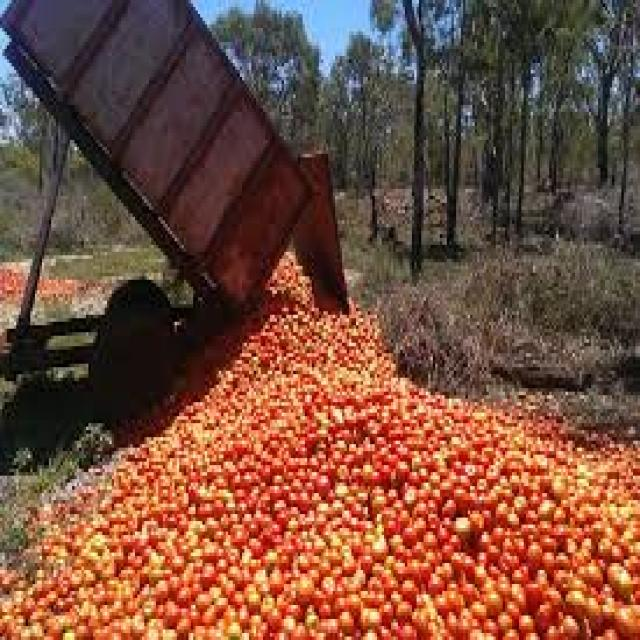organic waste: (402, 388, 638, 637), (189, 504, 505, 636), (0, 521, 328, 637), (252, 395, 386, 584), (35, 462, 214, 584), (184, 420, 268, 577), (110, 412, 182, 574), (377, 370, 421, 602), (170, 346, 242, 476), (300, 343, 396, 423), (256, 287, 323, 381), (202, 315, 270, 395), (344, 290, 380, 371), (268, 248, 314, 308), (302, 280, 340, 322), (30, 276, 100, 294), (0, 262, 23, 300)
